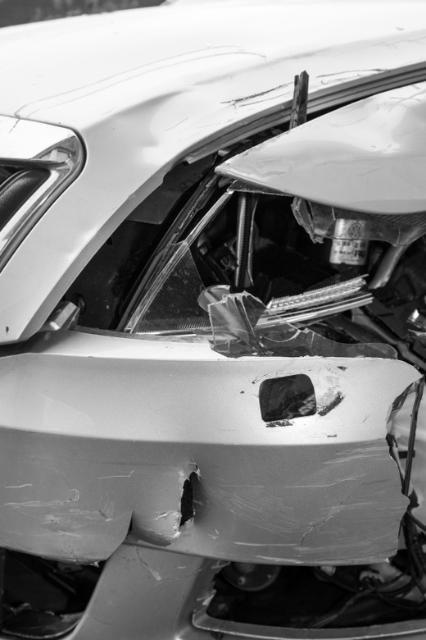Bumper: (0, 335, 426, 640)
Light: (121, 184, 426, 347)
